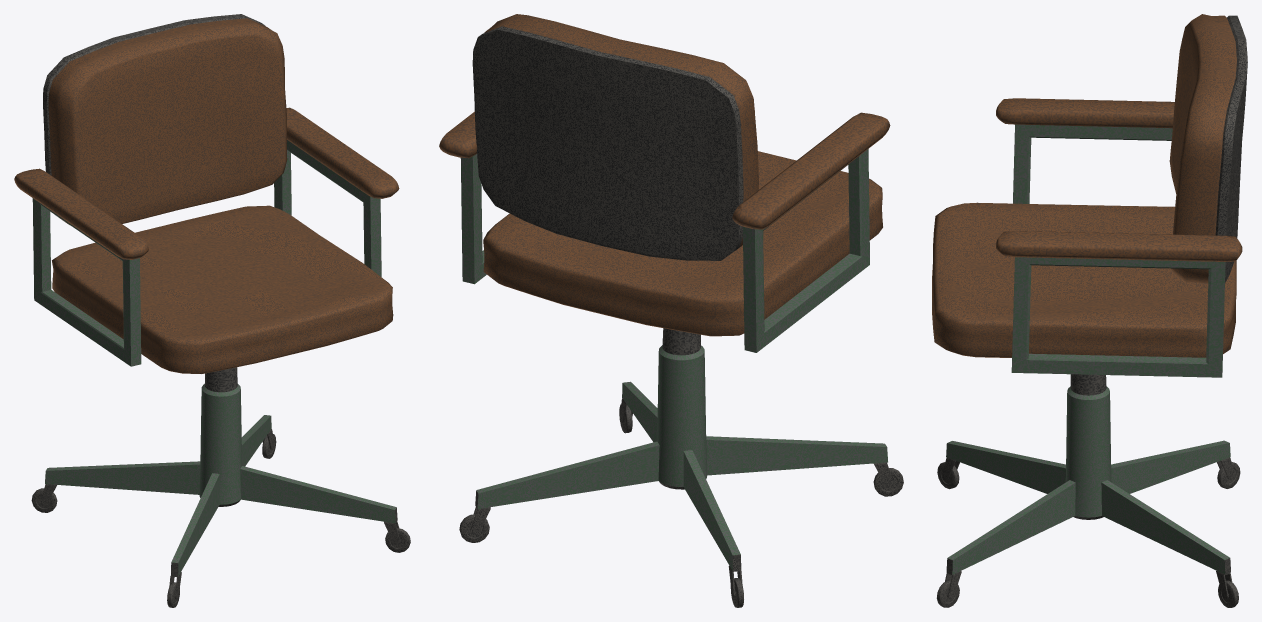
Rendered from modernchair2.glb.
The picture shows the model from 3 angles, left to right: view 1: azimuth 30°, elevation 25°; view 2: azimuth 150°, elevation 25°; view 3: azimuth 270°, elevation 25°; orthographic projection. The views are drawn at different scales.
Parts seen in each view (by area): view 1: pCube4; view 2: pCube4; view 3: pCube4.
Boxes of the visible parts, <box> form: pCube4: <box>14,14,410,607</box>; pCube4: <box>439,14,903,607</box>; pCube4: <box>932,14,1247,607</box>.
Size of the model in its own units: 0.6691 by 1.04 by 0.6062.
1 material, 1 textured.
